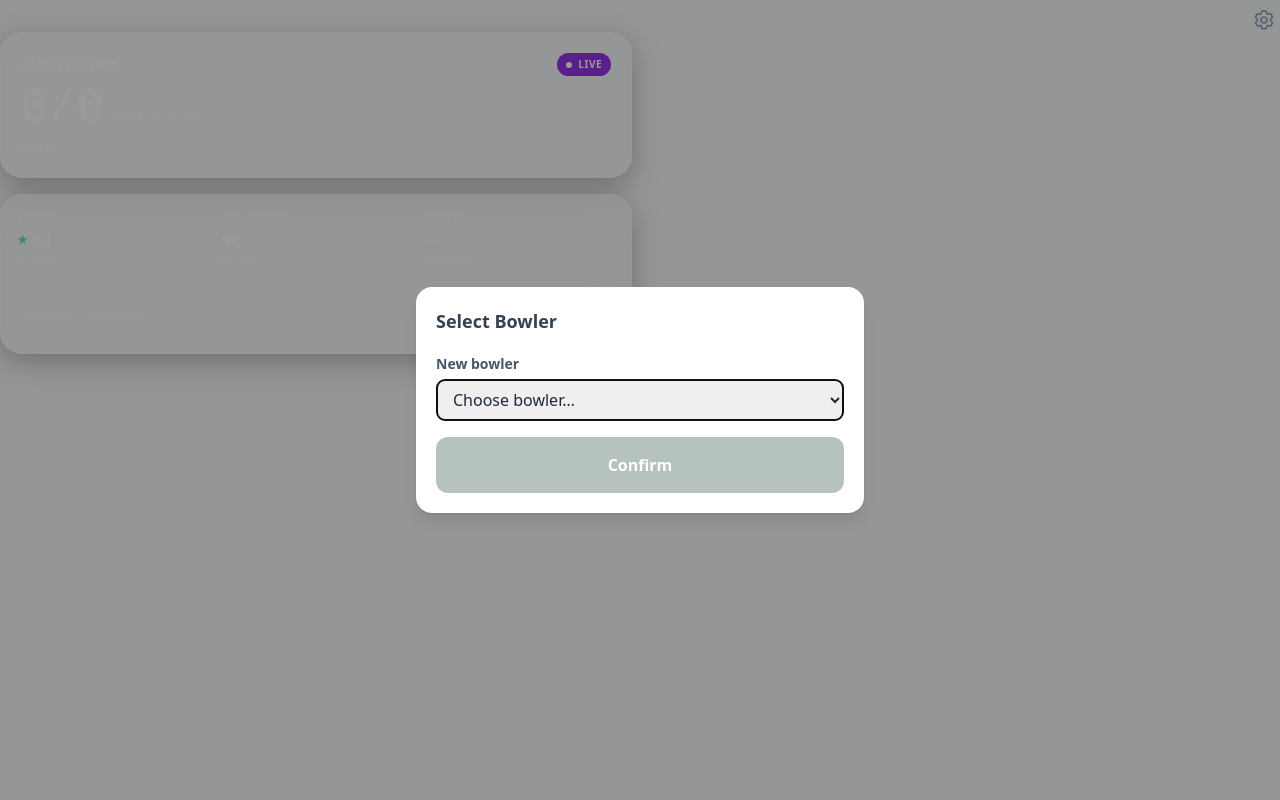
Test: ScorerDashboard integration › prompts for a new bowler at the end of an over and blocks scoring
Select "B2" in the dropdown at [640, 400], box [436,379,844,421]
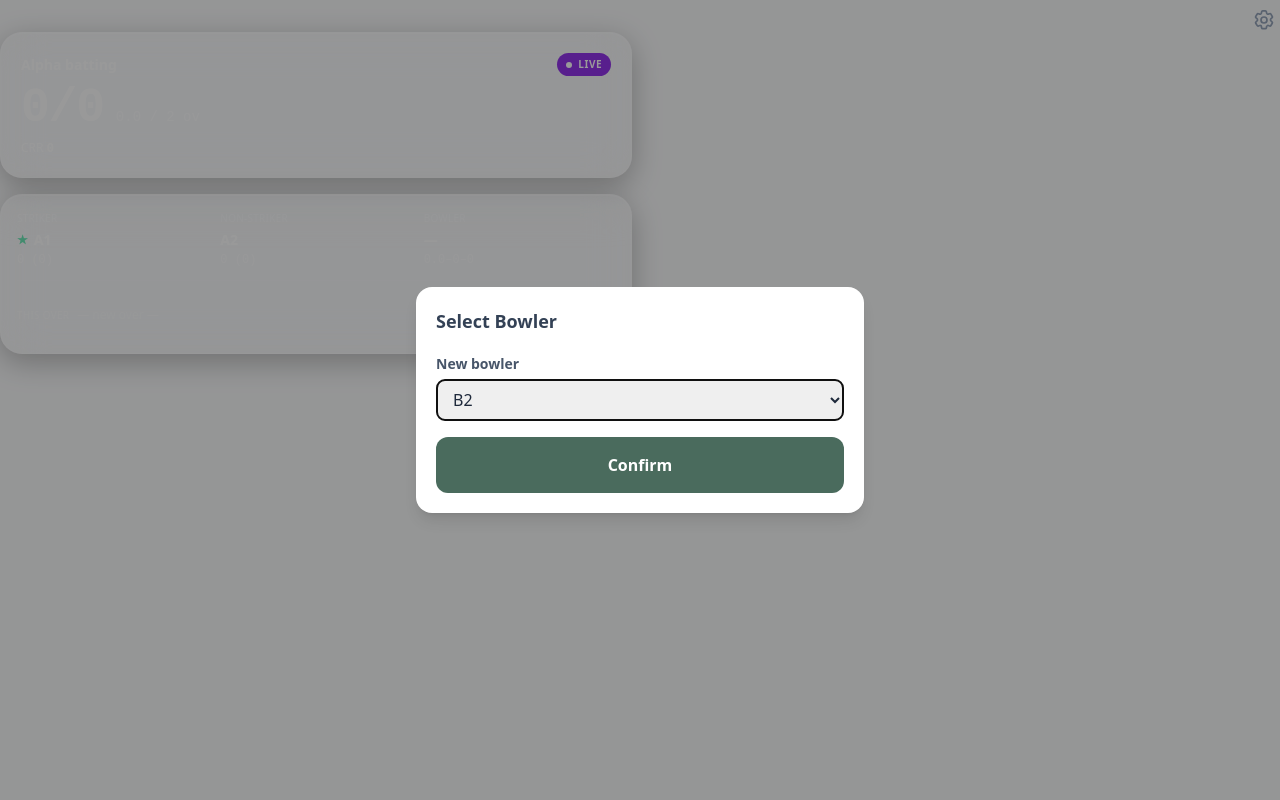
Click the button "Confirm" at [640, 465], box [436,437,844,493]
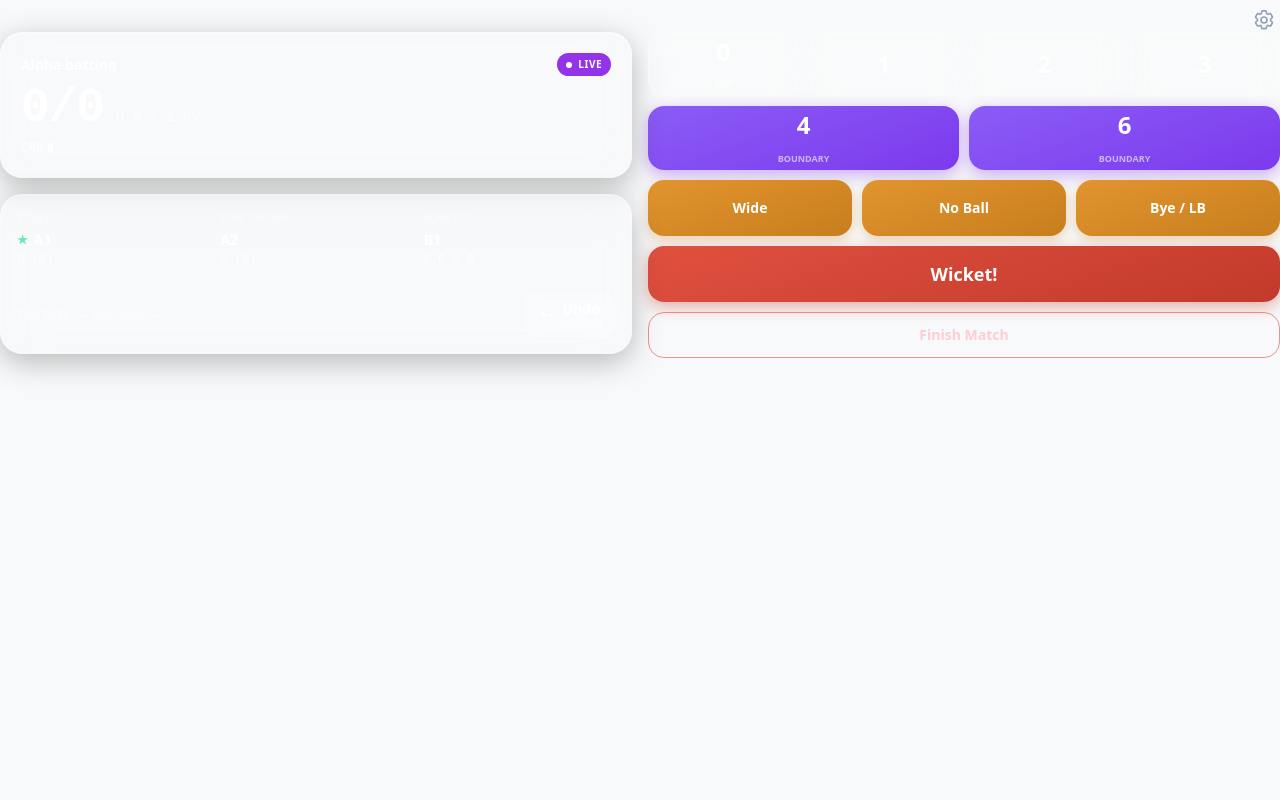
Expected: the dropdown is gone
